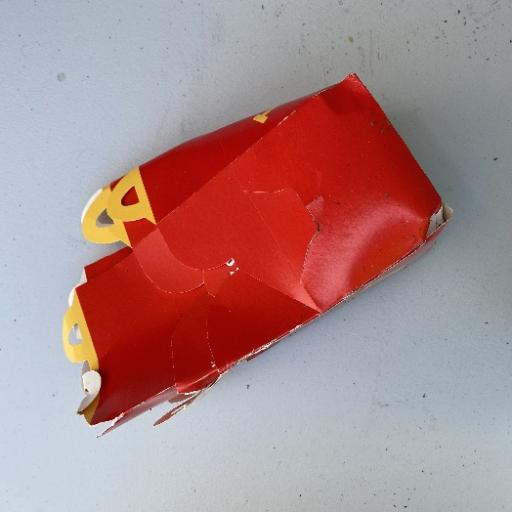Cardboard: (60, 70, 454, 434)
